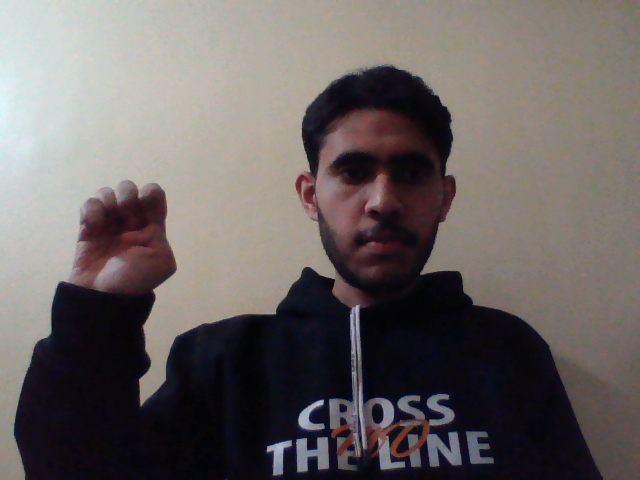E: (59, 169, 182, 305)
